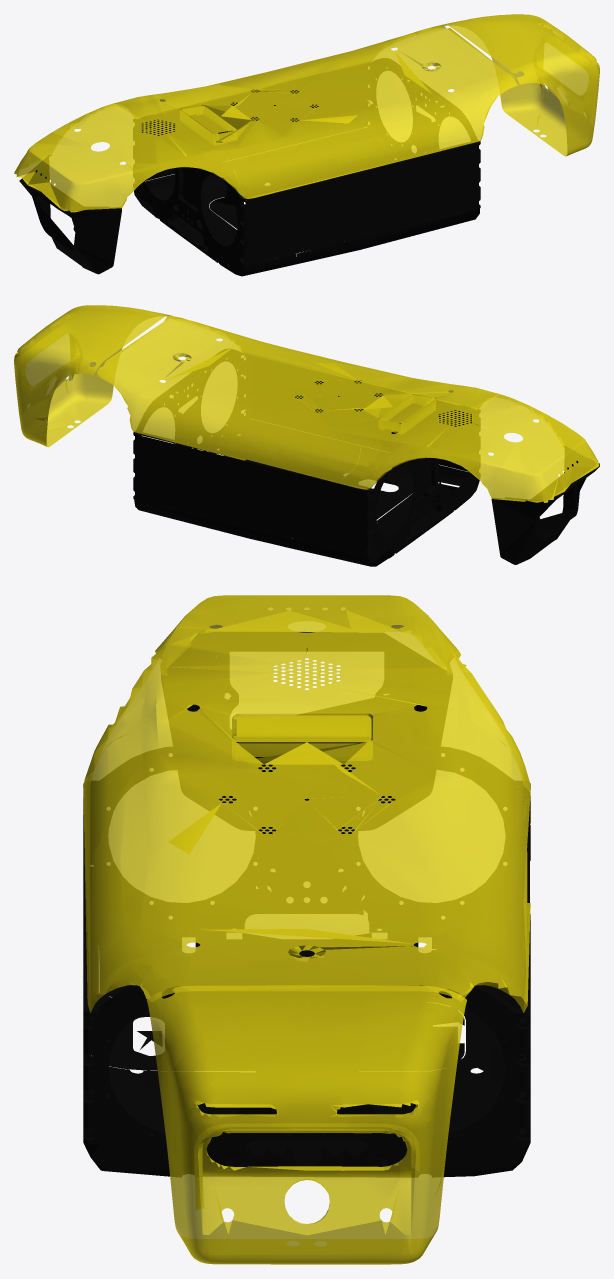
Rendered from TORSO2.dae.
The picture shows the model from 3 angles, top to bottom: view 1: azimuth 30°, elevation 25°; view 2: azimuth 150°, elevation 25°; view 3: azimuth 270°, elevation 25°; orthographic projection. The views are drawn at different scales.
Parts seen in each view (by area): view 1: Torso_-_____-1 (×6); view 2: Torso_-_____-1 (×6); view 3: Torso_-_____-1 (×6).
Part boxes in pixels (x1=…): Torso_-_____-1 (×6): x1=14, y1=14, x2=599, y2=276; Torso_-_____-1 (×6): x1=14, y1=305, x2=599, y2=566; Torso_-_____-1 (×6): x1=83, y1=595, x2=530, y2=1264.
Bounding box in the file's own units: 0.5458 × 0.1252 × 0.197.
